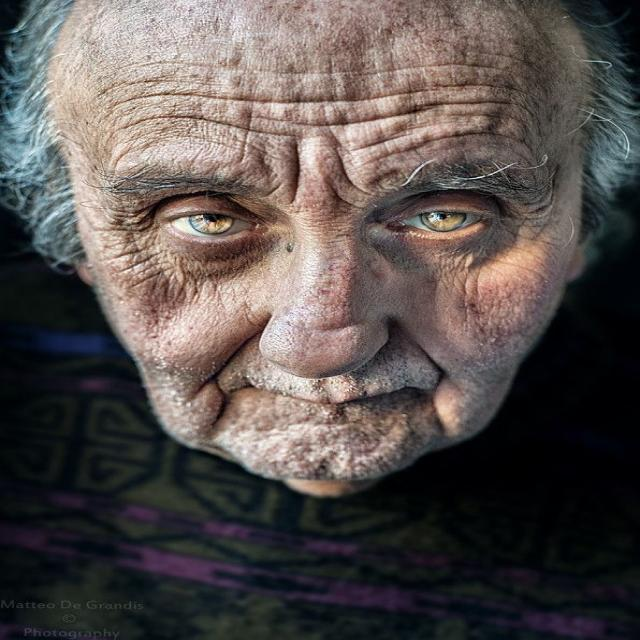front: (48, 107, 599, 474)
